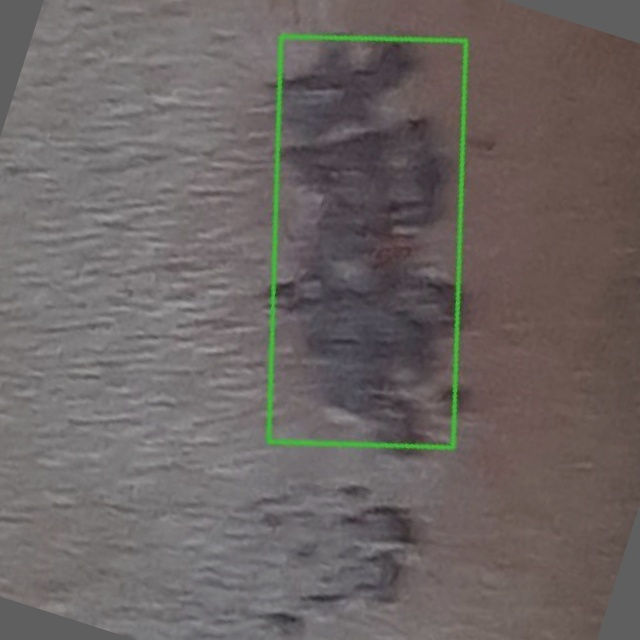Atopic Dermatitis: (267, 36, 465, 447)
